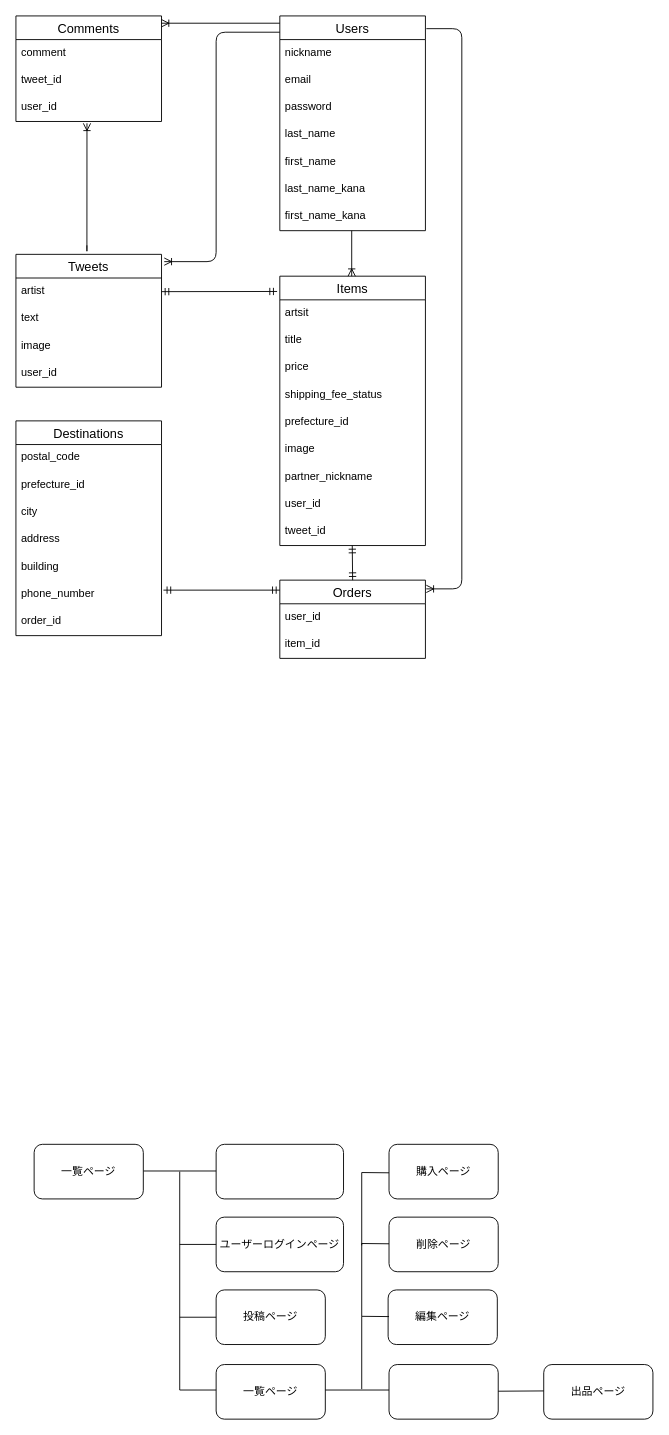
This 669x1435 diagram has some shape labels left out. The shapes that lost their labels are listed below. From the top down, each one's centre as x and y in pixels, then its label:
At (x=279, y=1171): "ユーザー新登録ページ".
At (x=443, y=1391): "詳細ページ".
